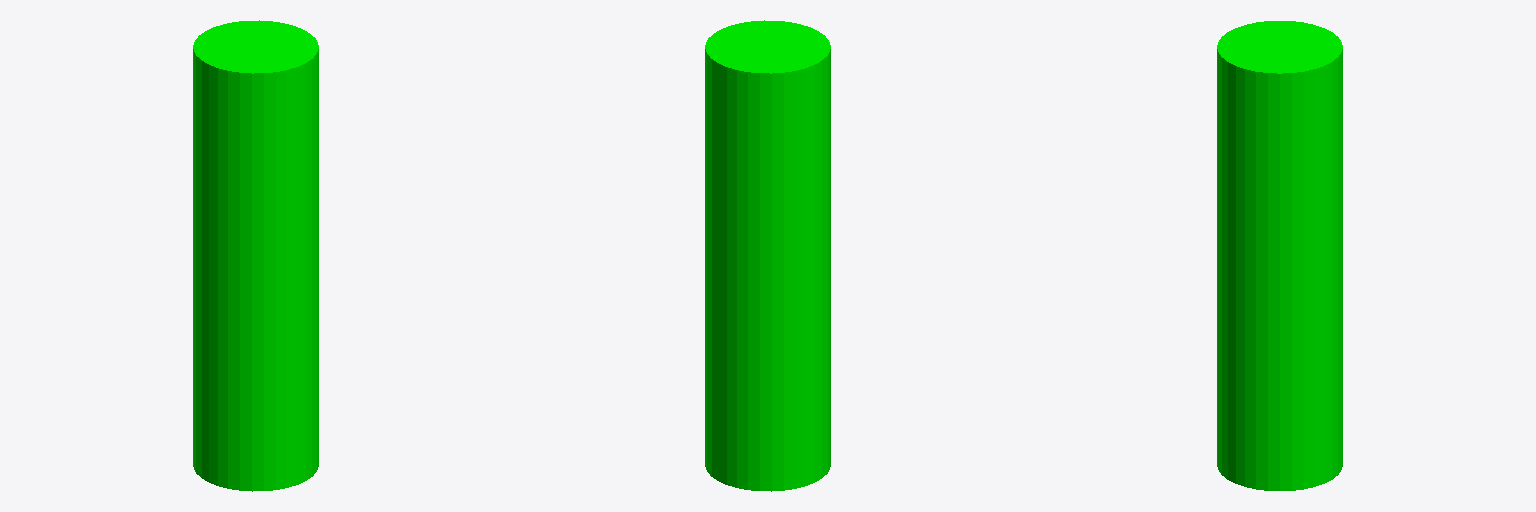
robot.urdf — can_3_small:
<?xml version="1.0"?>
<robot name="can_3_small">
	<link name="base">
	<inertial>
        	 <origin xyz="0 0 0.07" rpy="0 0 0"/>
        	 <mass value="0.05"/>
        	 <inertia ixx="0.000683333"  ixy="0"  ixz="0" iyy="0.000683333" iyz="0" izz="0.000683333" />
       </inertial>
	<visual>
                <origin xyz="0.0 0.0 0.07" rpy="0 0 0" />
                <!--origin xyz="0.0 0.0 0.055" rpy="0 0 0" /-->
		<geometry>
                         <!--<mesh filename="can/cokecan2.dae" scale="0.0254 0.0254 0.0254"/>-->
            <cylinder length="0.11" radius="0.015"/>
      		</geometry>
	    <material>
			<color rgba="0 1 0 1" />
	    </material>
		</visual>
  	 <collision>
		<!--origin xyz="0.0 0.0 -0.00255" rpy="0 0 0"/-->
		<origin xyz="0.0 0.0 0.08" rpy="0 0 0"/>
            <geometry>
       			 <!--mesh filename="can/cokecan.dae"  scale="0.0254 0.0254 0.0254"/-->
                         <cylinder length="0.11" radius="0.015"/>
            </geometry>
	    <material>
			<color rgba="0 1 0 1" />
	    </material>
        </collision>
	</link>
</robot>

--- What the picture shows (computed from the rendered views, not written in the file) ---
The picture shows the robot from 3 angles, left to right: view 1: azimuth 30°, elevation 25°; view 2: azimuth 150°, elevation 25°; view 3: azimuth 270°, elevation 25°; orthographic projection.
Robot: can_3_small — 1 links, 0 joints (none); root link base; default pose: every joint at zero.
Links seen in each view (by area): view 1: base; view 2: base; view 3: base.
Link boxes in pixels (x1=…): base: x1=193, y1=20, x2=318, y2=491; base: x1=705, y1=20, x2=830, y2=491; base: x1=1217, y1=21, x2=1342, y2=490.
Bounding box of the posed robot: 0.03 × 0.03 × 0.11 m (x, y, z).
Geometry: primitives only (box / cylinder / sphere), no mesh files.
